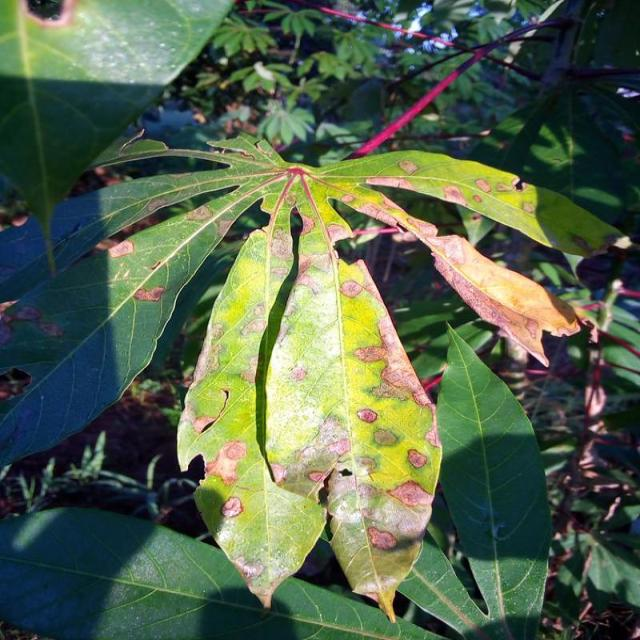cassava leaf: (2, 129, 620, 624), (175, 176, 443, 622), (0, 0, 234, 273)
